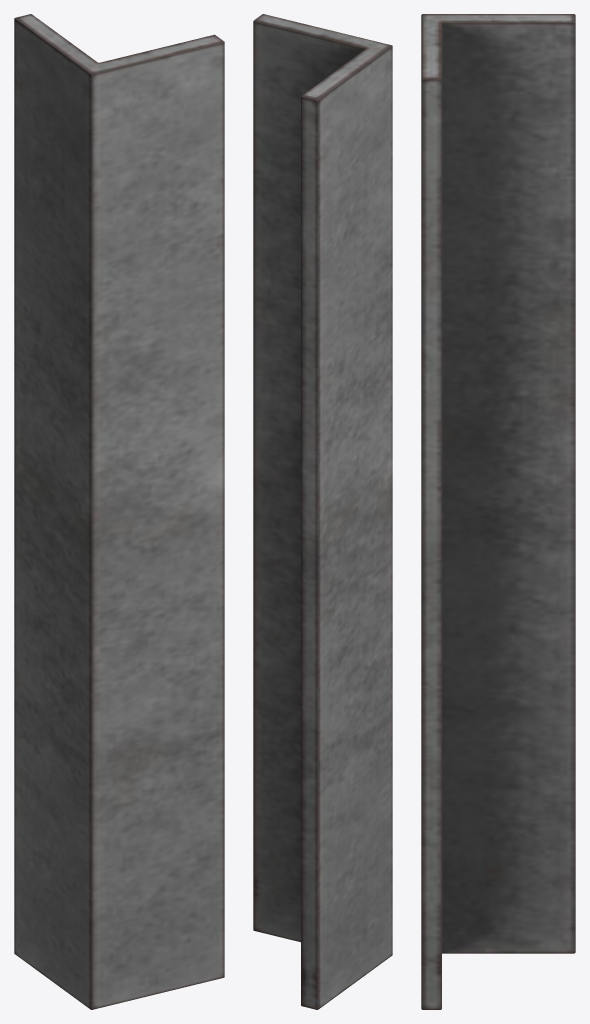
The model's file is Profile3_g.gltf.
3 renders of one model, left to right at view 1: azimuth 30°, elevation 25°; view 2: azimuth 150°, elevation 25°; view 3: azimuth 270°, elevation 25°, orthographic. The views are drawn at different scales.
Visible parts, largest first — view 1: Angle002; view 2: Angle002; view 3: Angle002.
Part boxes in pixels (x1,y1,x2,y2): Angle002: (14,14,224,1009); Angle002: (253,14,392,1009); Angle002: (421,14,575,1009).
Bounding box in the file's own units: 0.15 × 1 × 0.15.
Materials: 1 (1 with a texture image).
